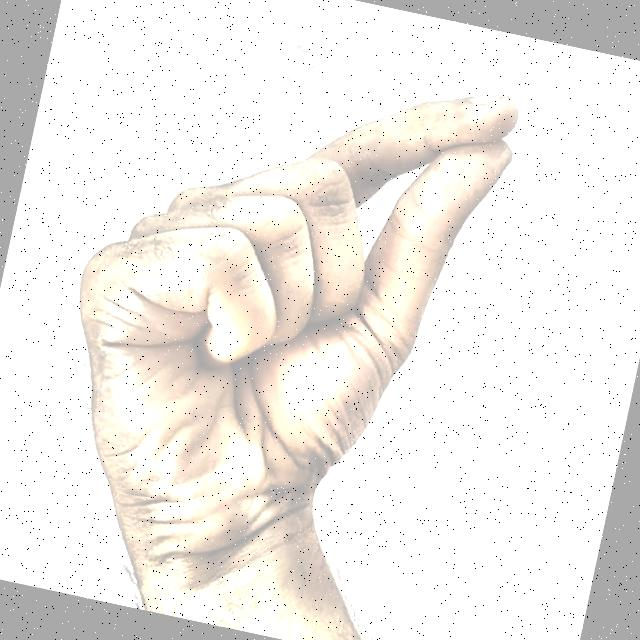Anusshar: (3, 0, 551, 638)
